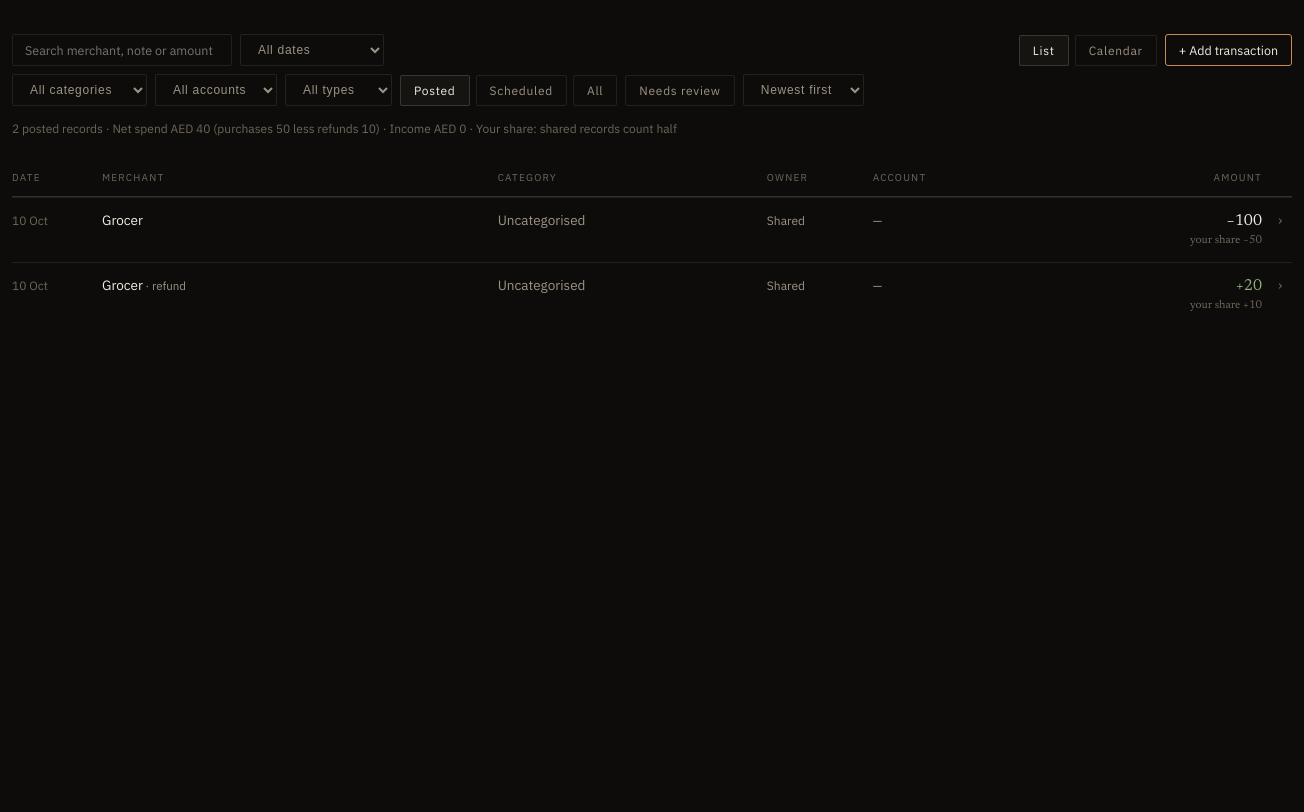
it: Activity summary line › gives the calendar the same figures as the summary line
The image size is (1304, 812).
Click the button "Calendar" at {"x": 1116, "y": 50}, box [1075,34,1157,66]
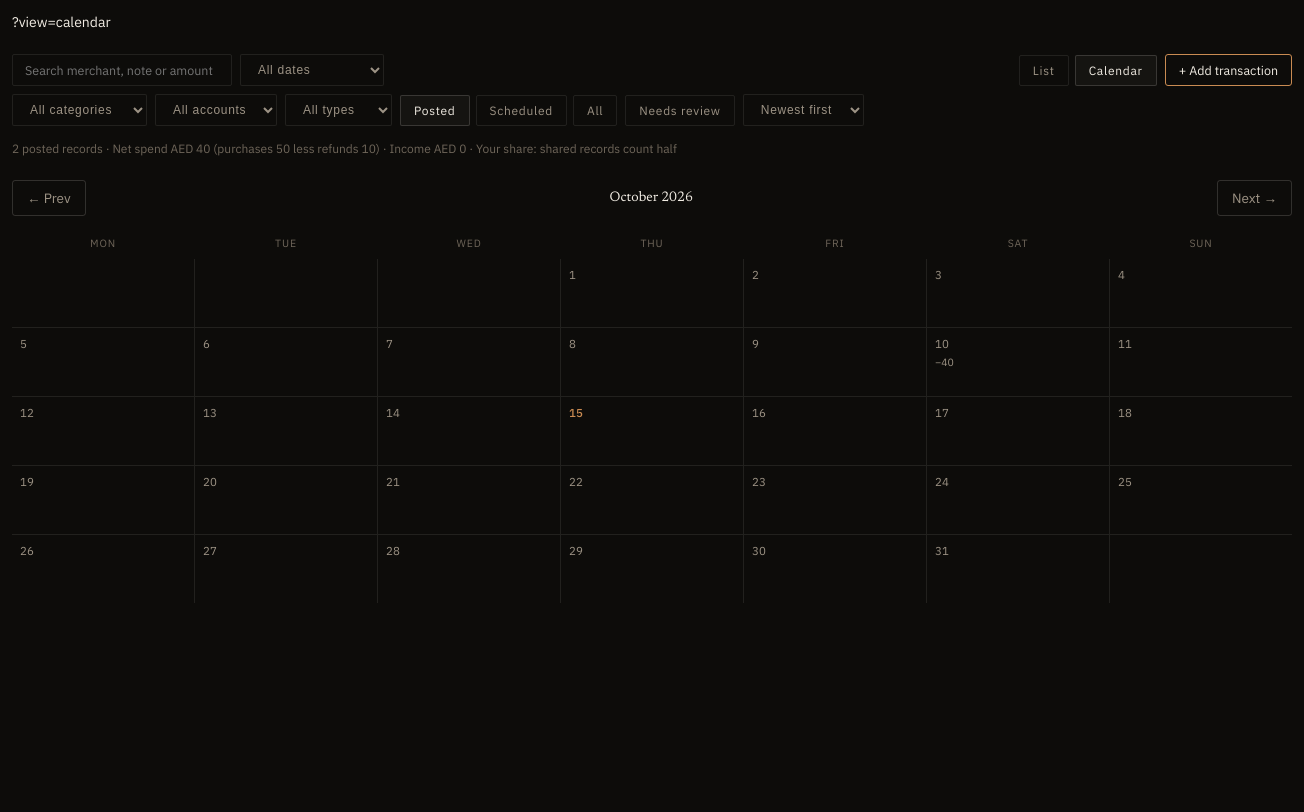
Check: the text with class "cal-spend" reads "−40", box [935,355,954,369]
